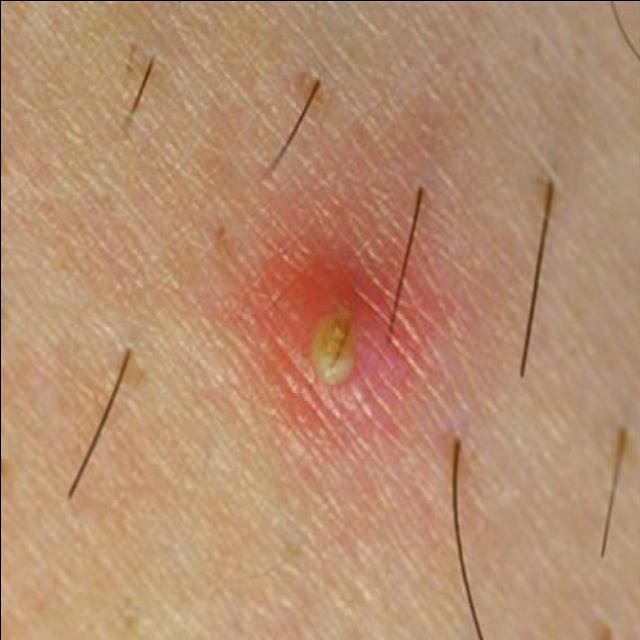pustule: (253, 275, 406, 412)
